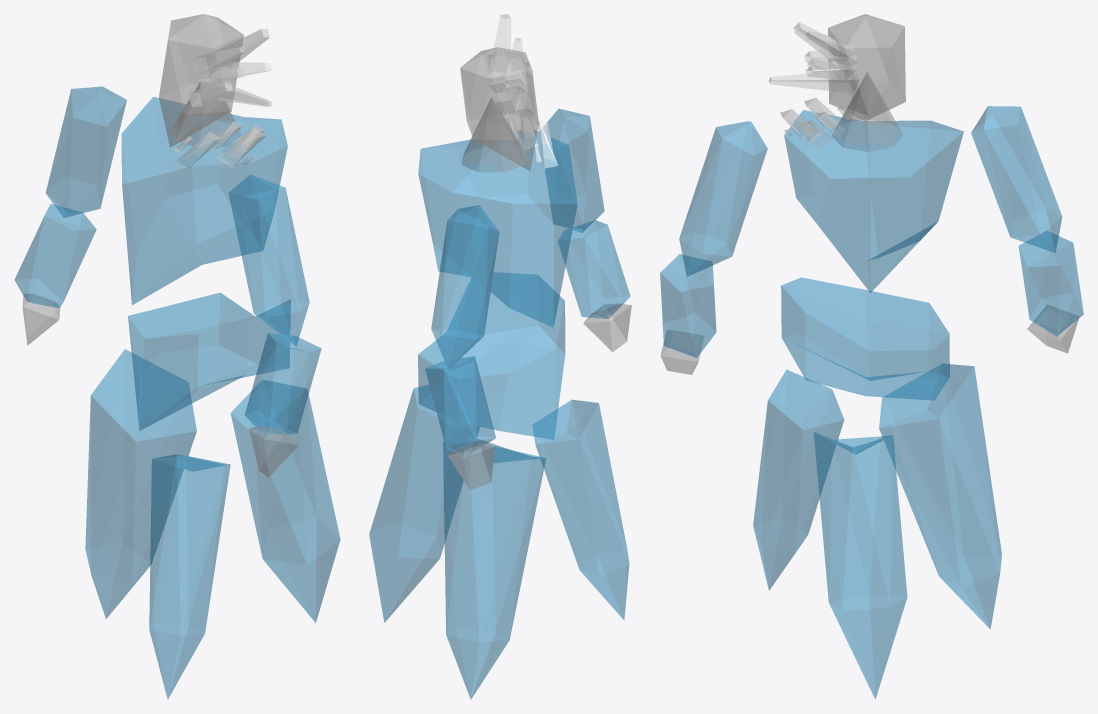
The model's file is ghostChargingLunge3.obj.
3 views of the same model, side by side, from view 1: azimuth 30°, elevation 25°; view 2: azimuth 150°, elevation 25°; view 3: azimuth 270°, elevation 25° (orthographic). The views are drawn at different scales.
Parts seen in each view (by area): view 1: Cube.001_Cube.006, Icosphere.017, Icosphere.016, Cube_Cube.006, Icosphere.015, Icosphere.005_Icosphere.005, Icosphere.003_Icosphere.006, Icosphere.007_Icosphere.005, Icosphere.006_Icosphere.005, Icosphere.008_Icosphere.005, Cone_Cone.006, Cube.002_Cube.006 (+8 smaller); view 2: Cube.001_Cube.006, Cube_Cube.006, Icosphere.017, Icosphere.016, Icosphere.015, Icosphere.007_Icosphere.005, Icosphere.003_Icosphere.006, Icosphere.005_Icosphere.005, Icosphere.006_Icosphere.005, Icosphere.008_Icosphere.005, Cone_Cone.006, Cube.003_Cube.006 (+6 smaller); view 3: Cube.001_Cube.006, Icosphere.017, Icosphere.016, Cube_Cube.006, Icosphere.015, Icosphere.005_Icosphere.005, Icosphere.007_Icosphere.005, Icosphere.003_Icosphere.006, Icosphere.008_Icosphere.005, Icosphere.006_Icosphere.005, Cone_Cone.006, Cube.003_Cube.006 (+4 smaller).
Boxes of the visible parts, left/top/right/bottom form: Cube.001_Cube.006: left=121, top=97, right=287, bottom=304; Icosphere.017: left=85, top=349, right=196, bottom=618; Icosphere.016: left=230, top=380, right=340, bottom=622; Cube_Cube.006: left=128, top=292, right=290, bottom=430; Icosphere.015: left=149, top=454, right=230, bottom=699; Icosphere.005_Icosphere.005: left=228, top=174, right=309, bottom=346; Icosphere.003_Icosphere.006: left=159, top=14, right=243, bottom=147; Icosphere.007_Icosphere.005: left=46, top=86, right=126, bottom=217; Icosphere.006_Icosphere.005: left=245, top=333, right=321, bottom=434; Icosphere.008_Icosphere.005: left=14, top=204, right=96, bottom=307; Cone_Cone.006: left=171, top=82, right=240, bottom=146; Cube.002_Cube.006: left=249, top=426, right=298, bottom=477; Cube.001_Cube.006: left=418, top=130, right=577, bottom=327; Cube_Cube.006: left=418, top=272, right=565, bottom=439; Icosphere.017: left=443, top=436, right=546, bottom=699; Icosphere.016: left=369, top=385, right=479, bottom=622; Icosphere.015: left=533, top=399, right=629, bottom=619; Icosphere.007_Icosphere.005: left=431, top=205, right=499, bottom=369; Icosphere.003_Icosphere.006: left=460, top=47, right=538, bottom=170; Icosphere.005_Icosphere.005: left=540, top=108, right=604, bottom=232; Icosphere.006_Icosphere.005: left=558, top=220, right=630, bottom=318; Icosphere.008_Icosphere.005: left=425, top=356, right=495, bottom=455; Cone_Cone.006: left=461, top=97, right=524, bottom=172; Cube.003_Cube.006: left=448, top=442, right=494, bottom=489; Cube.001_Cube.006: left=784, top=110, right=963, bottom=292; Icosphere.017: left=879, top=364, right=1001, bottom=629; Icosphere.016: left=813, top=432, right=907, bottom=699; Cube_Cube.006: left=781, top=277, right=949, bottom=400; Icosphere.015: left=753, top=369, right=844, bottom=590; Icosphere.005_Icosphere.005: left=679, top=121, right=767, bottom=276; Icosphere.007_Icosphere.005: left=971, top=106, right=1062, bottom=252; Icosphere.003_Icosphere.006: left=828, top=14, right=905, bottom=120; Icosphere.008_Icosphere.005: left=1018, top=231, right=1083, bottom=336; Icosphere.006_Icosphere.005: left=660, top=254, right=716, bottom=357; Cone_Cone.006: left=832, top=72, right=902, bottom=151; Cube.003_Cube.006: left=1027, top=305, right=1078, bottom=353.
Bounding box in the file's own units: 17.07 × 47.41 × 28.66.
